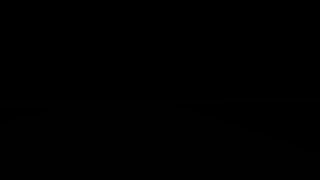turn_left: (176, 56, 193, 73)
